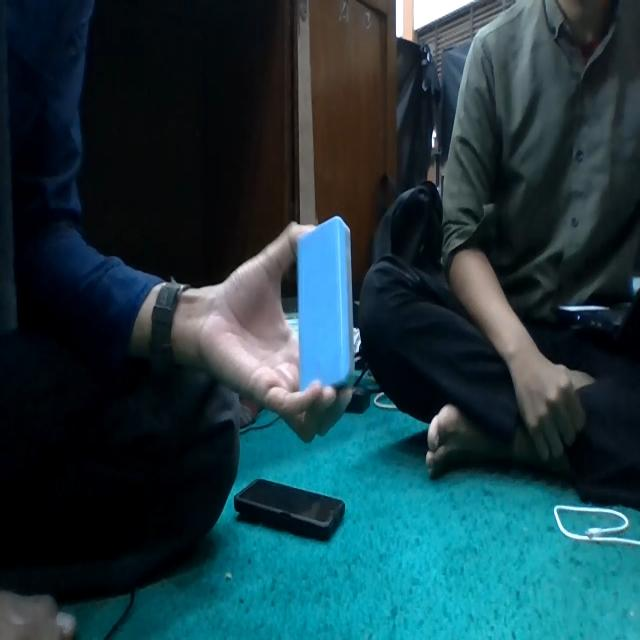Powerbank: (296, 216, 354, 389)
